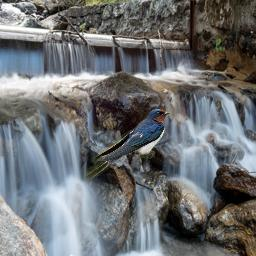Swallow: (83, 109, 171, 182)
